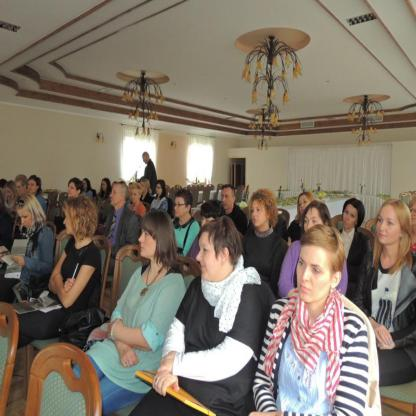face: (296, 244, 332, 304), (196, 236, 223, 281), (377, 203, 402, 245), (304, 208, 324, 239), (139, 228, 155, 258), (342, 203, 359, 229), (252, 201, 268, 228), (63, 208, 77, 236), (19, 206, 33, 228), (222, 187, 234, 211), (202, 214, 215, 236), (175, 196, 187, 219), (110, 185, 122, 207), (299, 196, 311, 218), (409, 204, 416, 228), (69, 183, 79, 199), (28, 180, 38, 195), (16, 181, 25, 197), (132, 189, 139, 204), (6, 187, 14, 200), (128, 184, 134, 197), (156, 184, 163, 195), (141, 182, 147, 194), (143, 155, 149, 166), (102, 181, 107, 193), (2, 186, 7, 196), (83, 180, 88, 190)
